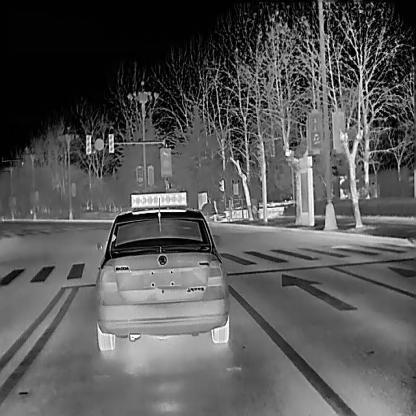car: (95, 190, 228, 350)
